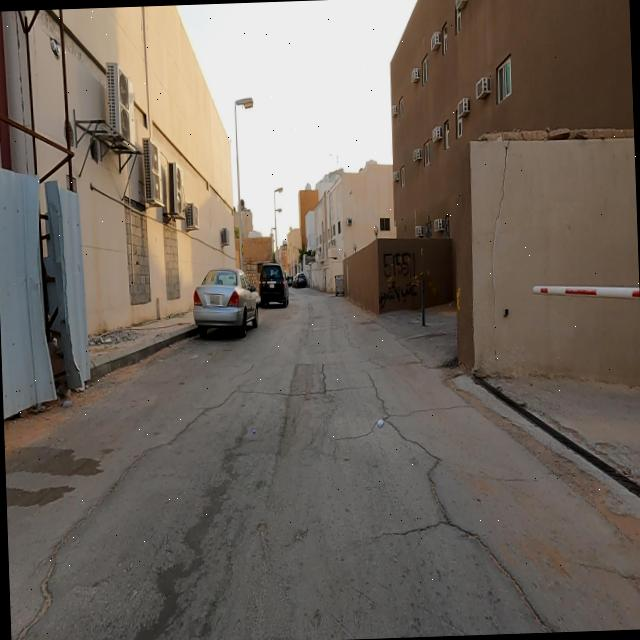Graffiti: (378, 250, 420, 312)
